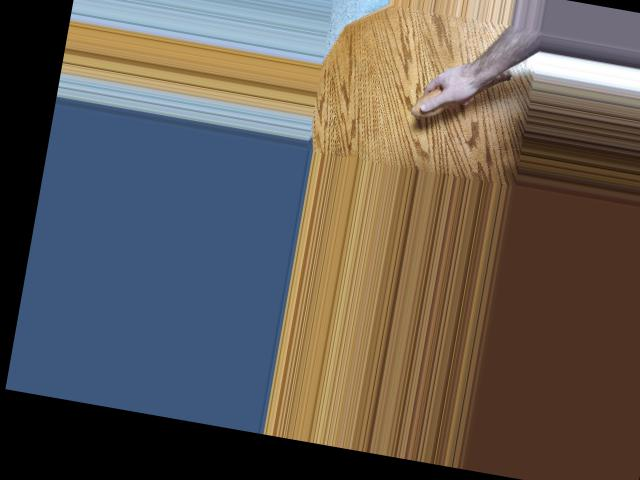sweet_potato: (409, 52, 515, 131)
